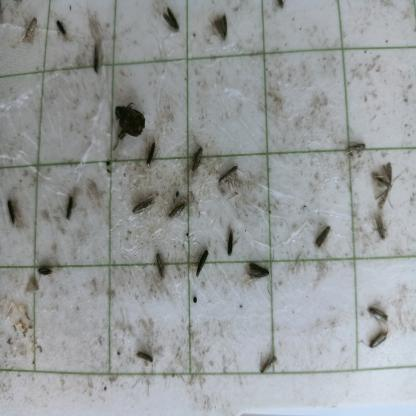prays_oleae: (370, 156, 404, 206), (211, 158, 243, 196), (257, 337, 282, 385), (208, 6, 230, 50), (185, 136, 206, 182), (138, 133, 161, 175), (154, 4, 186, 34), (310, 224, 334, 262), (130, 191, 156, 225), (362, 291, 390, 322), (1, 191, 22, 231), (243, 254, 269, 286), (148, 247, 168, 288), (372, 211, 393, 250), (339, 130, 370, 156), (18, 13, 42, 46), (63, 191, 82, 232), (167, 192, 188, 228), (367, 325, 391, 355), (35, 258, 61, 284), (194, 243, 209, 286), (221, 226, 238, 261), (134, 345, 157, 368), (85, 44, 102, 72), (54, 12, 68, 40)
